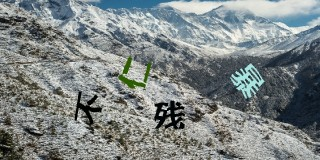不: (73, 90, 103, 126)
仁: (117, 56, 152, 92)
暴: (230, 61, 266, 101)
残: (154, 100, 186, 131)
